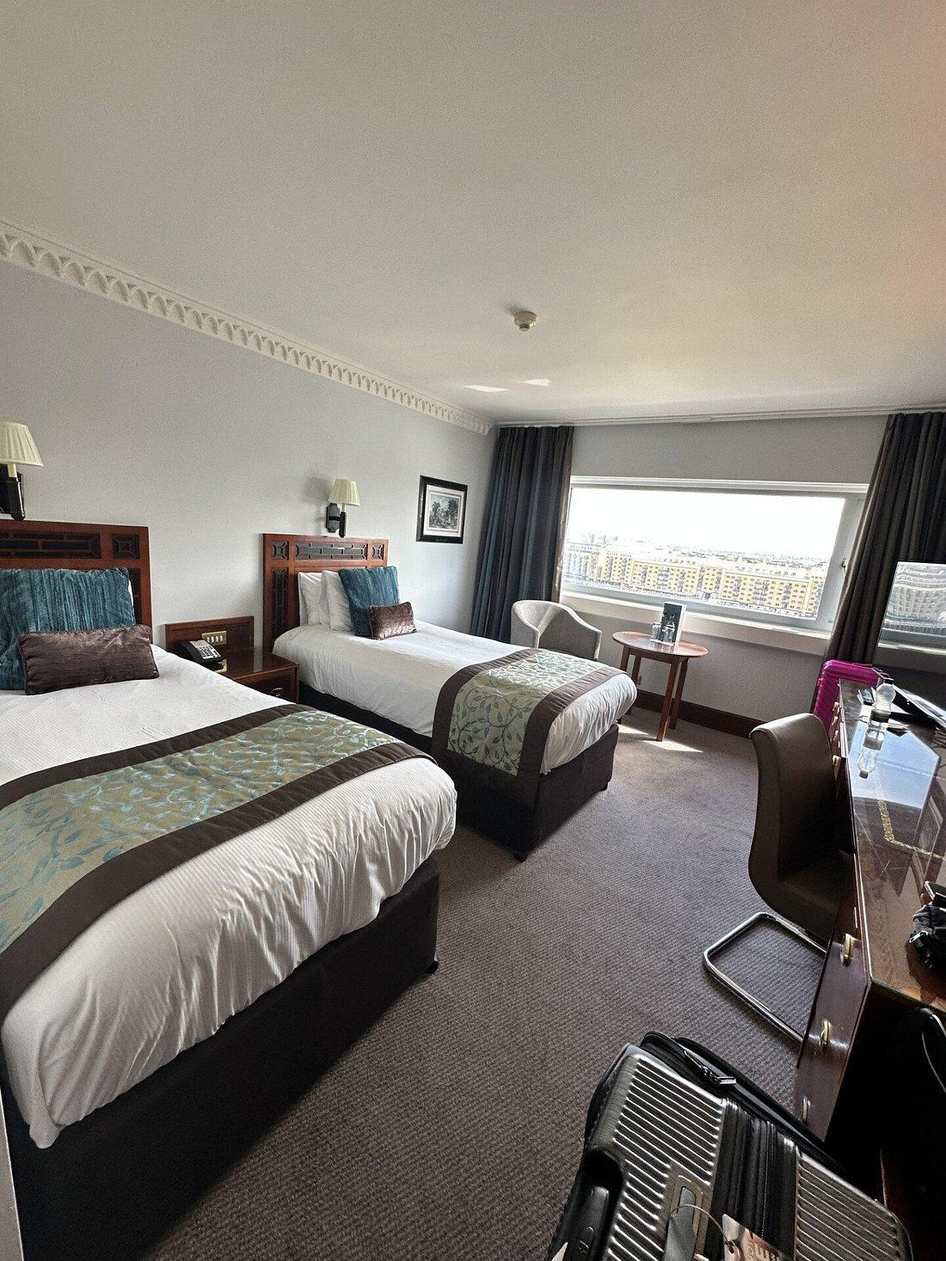chair: (716, 728, 864, 1023), (516, 595, 608, 664)
clean_bed: (0, 514, 284, 1102), (271, 533, 626, 825)
organised_pillow: (4, 574, 157, 686), (316, 569, 419, 645)
organized table: (624, 617, 705, 737)
